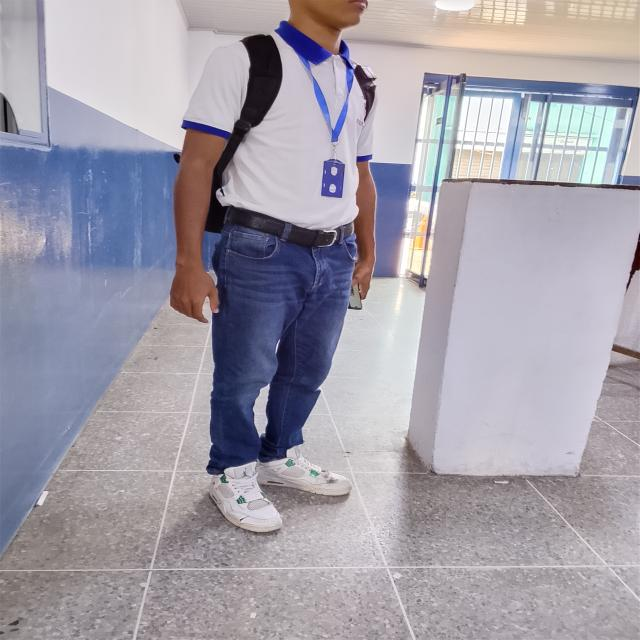carnet: (320, 160, 346, 198)
pantalon_oscuro: (206, 222, 360, 476)
uniforme_superior: (180, 19, 378, 230)
